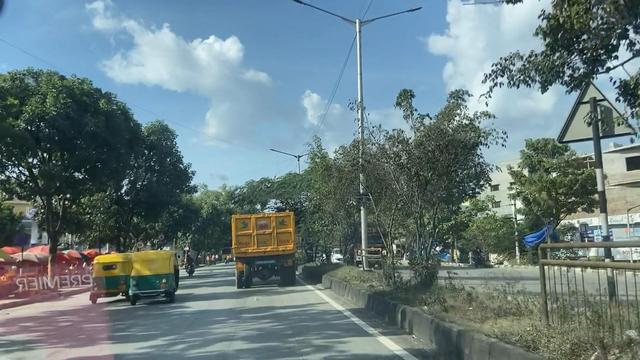HMV: (235, 216, 292, 288)
LMV: (132, 250, 181, 301), (87, 254, 131, 295)
